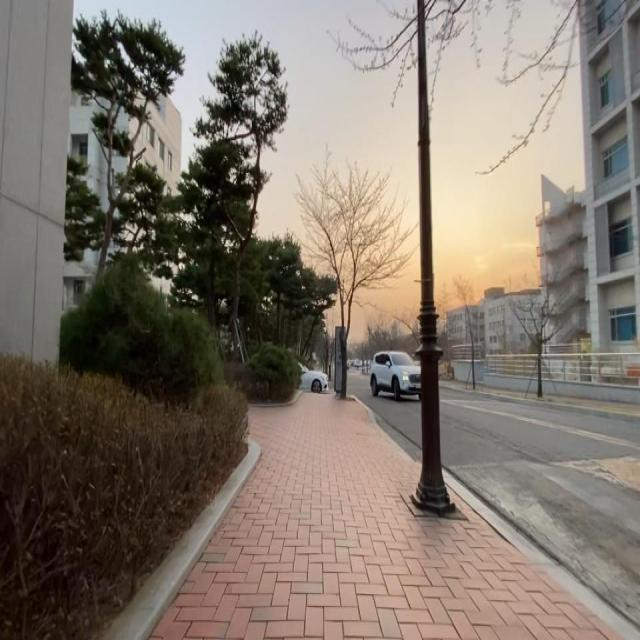sidewalk: (148, 392, 640, 640), (439, 380, 640, 417)
